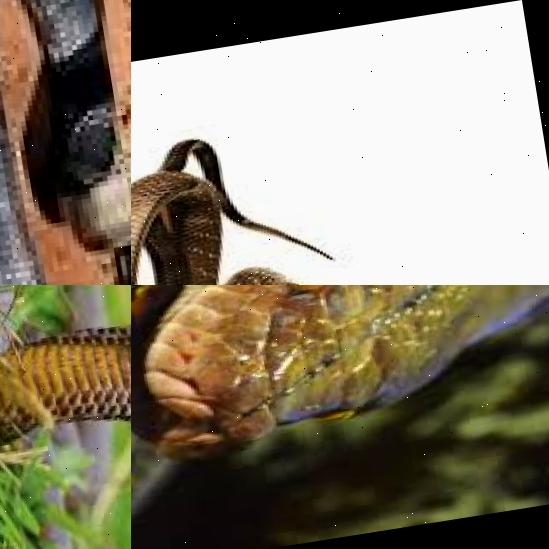snake: (131, 81, 549, 285), (131, 285, 549, 474), (0, 0, 131, 285), (0, 285, 131, 540)
